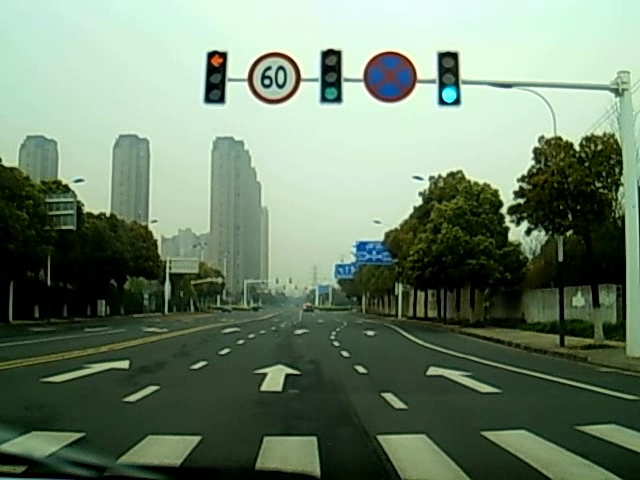Traffic_Light_go: (439, 52, 460, 107), (320, 51, 341, 104)
Traffic_Light_stop: (206, 53, 224, 101)
